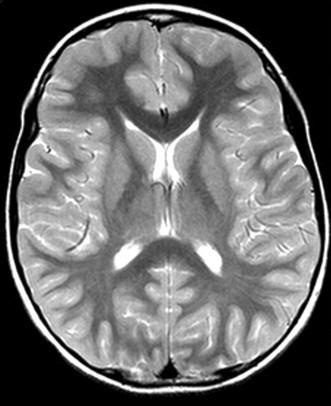Normal_Brain: (3, 4, 331, 406)
